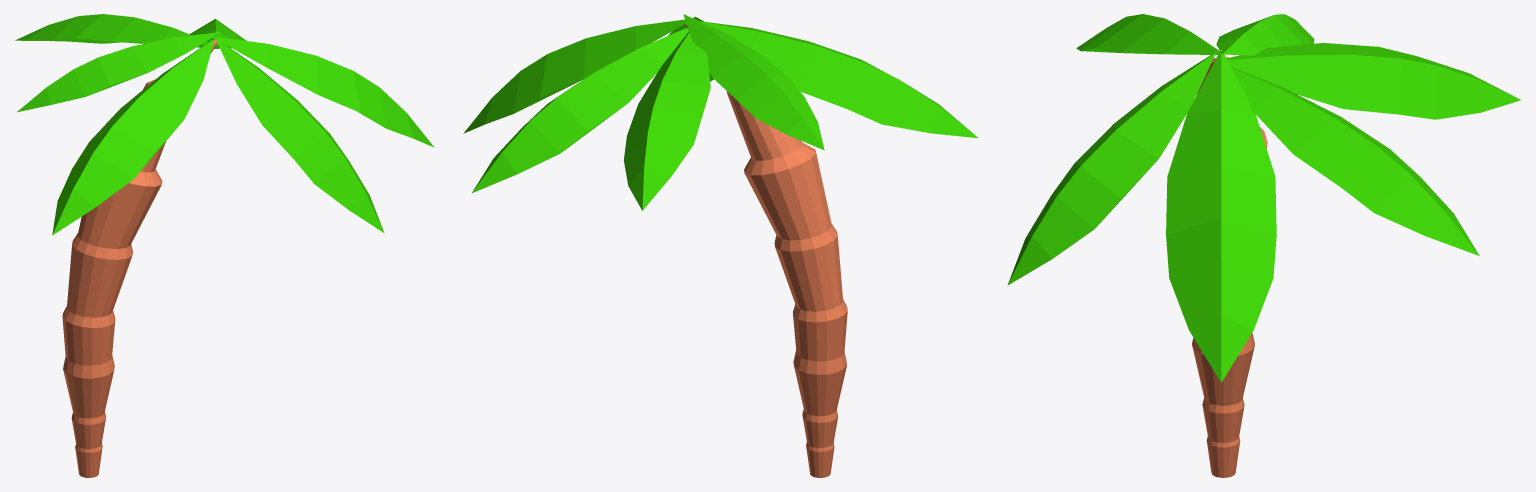
File: pohon kelapa.fbx
3 renders of one model, left to right at view 1: azimuth 30°, elevation 25°; view 2: azimuth 150°, elevation 25°; view 3: azimuth 270°, elevation 25°, orthographic. The views are drawn at different scales.
Parts seen in each view (by area): view 1: Plane.002, Plane; view 2: Plane.002, Plane; view 3: Plane.002, Plane.
Boxes of the visible parts, left/top/right/bottom form: Plane.002: left=15, top=14, right=434, bottom=235; Plane: left=62, top=39, right=217, bottom=477; Plane.002: left=463, top=14, right=978, bottom=210; Plane: left=685, top=23, right=847, bottom=477; Plane.002: left=1007, top=14, right=1521, bottom=382; Plane: left=1192, top=57, right=1267, bottom=477.
Size of the model in its own units: 5888 by 5247 by 4922.
